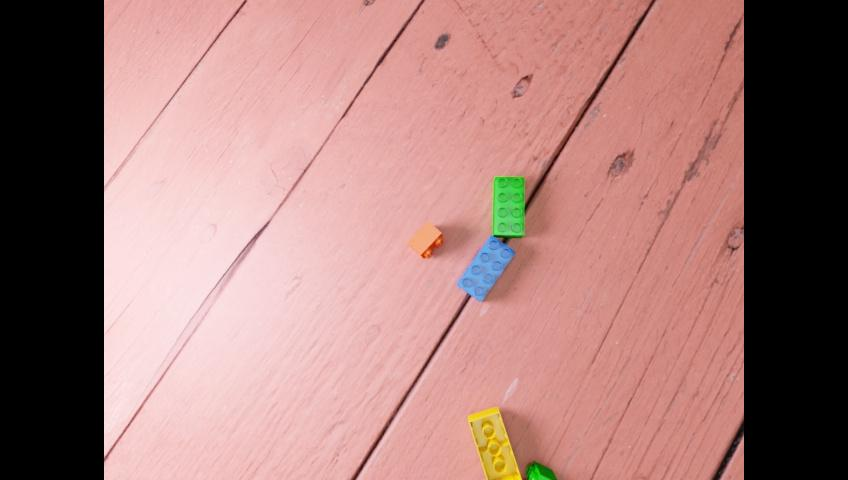2x2_green: (522, 460, 558, 480)
2x2_orange: (407, 220, 443, 258)
4x2_blue: (456, 234, 515, 301)
4x2_green: (492, 176, 523, 237)
4x2_yellow: (468, 406, 522, 480)
